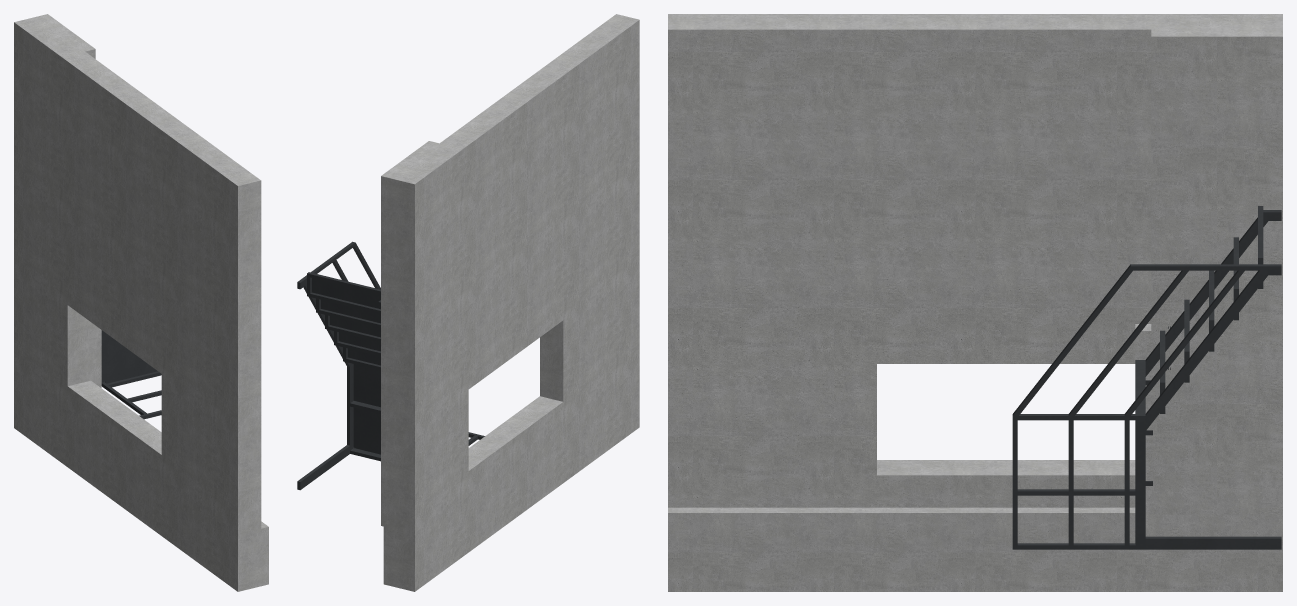
Rendered from escalera-recta-lateral-interior-mwyk90ue.glb.
3 views of the same model, side by side, from view 1: azimuth 30°, elevation 25°; view 2: azimuth 150°, elevation 25°; view 3: azimuth 270°, elevation 25° (orthographic). The views are drawn at different scales.
Visible parts, largest first — view 1: pared, chapa_rellano, barandilla; view 2: pared, chapa_rellano, chapa_escalon_(3), rellano, escalon_(4), barandilla, Body24, chapa_escalon_(4), chapa_escalon_(2); view 3: pared, barandilla, zanja, rellano, Body24, zanja_(1).
Part boxes in pixels (x1,y1,x2,y2): pared: (14,14,268,591); chapa_rellano: (101,330,157,383); barandilla: (101,371,161,419); pared: (381,14,639,591); chapa_rellano: (353,364,380,454); chapa_escalon_(3): (312,273,380,309); rellano: (347,363,380,461); escalon_(4): (307,272,380,314); barandilla: (304,241,484,447); Body24: (297,445,349,490); chapa_escalon_(4): (321,299,380,323); chapa_escalon_(2): (330,316,380,337); pared: (668,14,1282,591); barandilla: (1012,264,1263,549); zanja: (1145,264,1281,430); rellano: (1135,360,1152,549); Body24: (1145,536,1281,549); zanja_(1): (1145,210,1281,376).
Size of the model in its own units: 1.52 by 5 by 5.
Materials: 2 (2 with a texture image).
